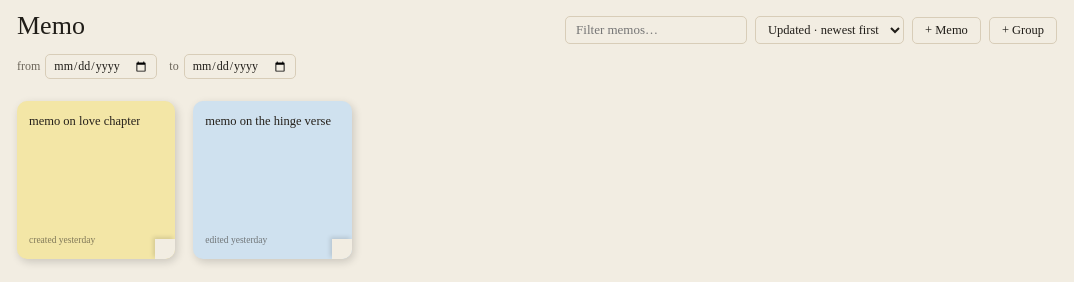
Test: NotesPage reference search › does not surface John 3:16 when you search John 3:1
Type "john 3:1" into the field with placeholder "Filter memos…" at (656,30), box 565,16 -> 747,44
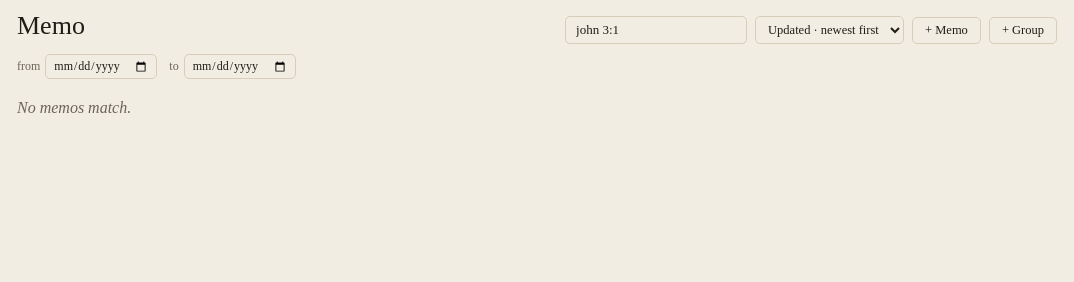
Expected: the text "No memos match." is shown, 17,99 -> 131,116
